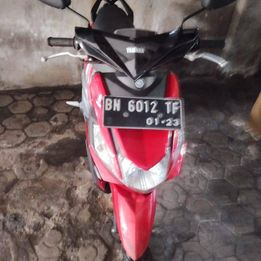plate: (101, 95, 184, 129)
